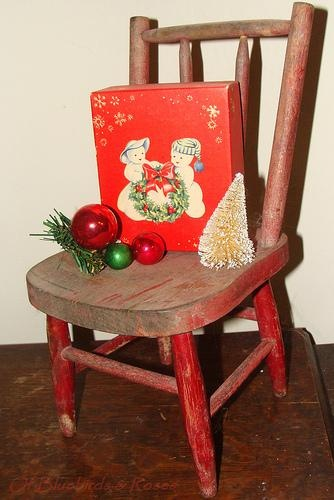obstacle: (27, 2, 313, 496)
